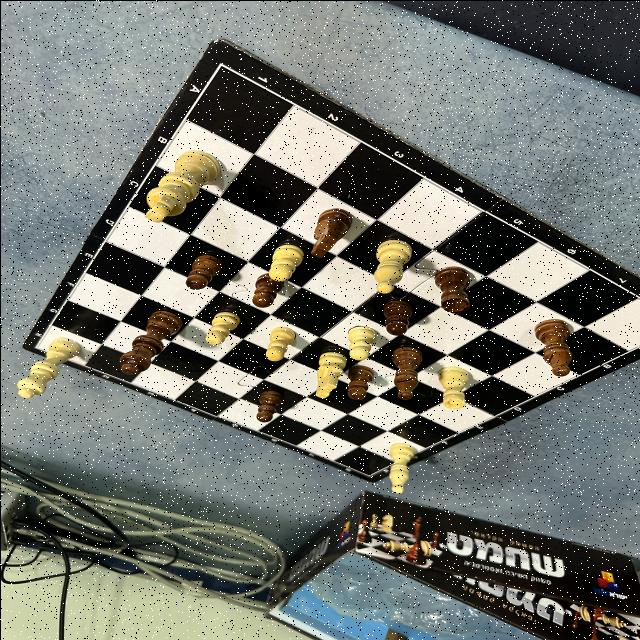Black-Bishop: (534, 318, 572, 376), (392, 346, 422, 400)
Black-Knight: (310, 208, 352, 258)
Black-Pawn: (184, 254, 220, 288), (252, 274, 282, 308), (382, 300, 411, 334), (347, 365, 373, 399), (256, 389, 282, 422)
Black-Queen: (118, 310, 182, 374)
Black-Rook: (433, 266, 469, 312)
White-Bishop: (372, 238, 410, 292), (387, 442, 413, 492)
White-King: (144, 150, 218, 222)
White-Knight: (314, 352, 346, 398)
White-Pawn: (268, 244, 302, 281), (203, 310, 239, 344), (264, 326, 294, 361), (347, 324, 374, 360)
White-Queen: (15, 337, 80, 397)
White-Rook: (436, 366, 468, 408)
